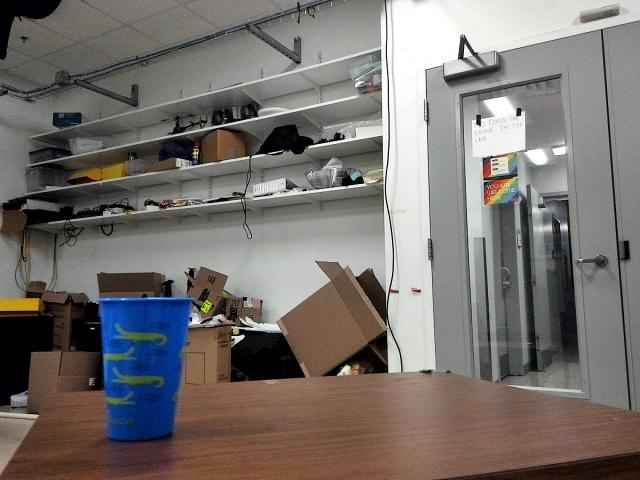water_cup: (83, 283, 196, 450)
